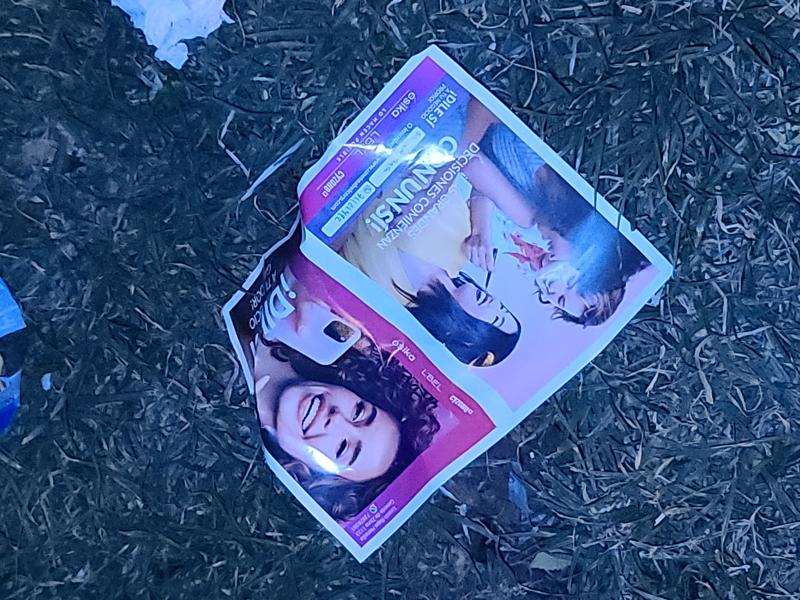papel: (220, 46, 675, 564)
